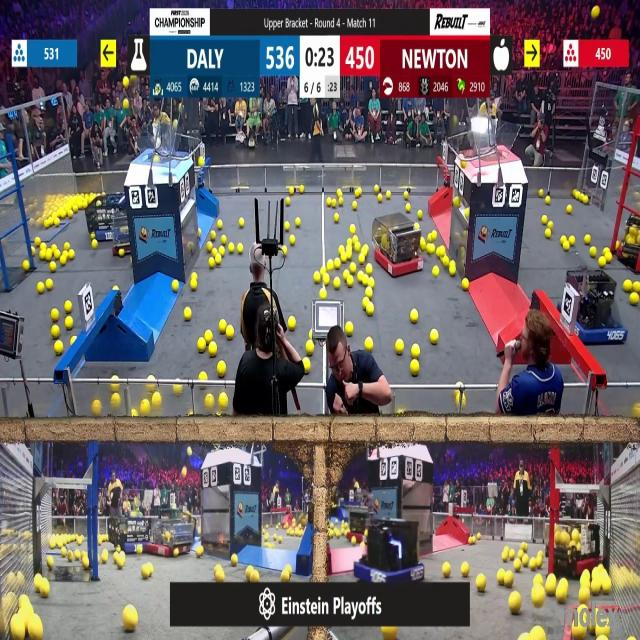ball_airborne: (592, 6, 600, 18), (122, 76, 128, 87), (482, 104, 488, 115), (122, 100, 128, 110), (184, 470, 190, 479), (173, 119, 178, 127)
ball_ground: (125, 608, 138, 633), (556, 583, 568, 604), (511, 594, 522, 614), (532, 589, 544, 606), (382, 626, 396, 640), (544, 579, 554, 596), (246, 568, 258, 582), (478, 576, 487, 594), (110, 393, 120, 409), (532, 627, 544, 640), (214, 566, 224, 581), (218, 393, 228, 408), (217, 360, 226, 376), (93, 402, 102, 418), (40, 583, 49, 599), (142, 564, 152, 578), (205, 394, 215, 408), (592, 582, 602, 596), (578, 589, 587, 604), (602, 580, 610, 596), (504, 570, 512, 586), (208, 343, 217, 357), (444, 562, 452, 577), (56, 341, 64, 356), (412, 359, 420, 374), (430, 331, 438, 345), (364, 338, 372, 352), (461, 562, 469, 576), (304, 358, 312, 372), (395, 341, 403, 355), (225, 325, 233, 339), (412, 345, 420, 359), (141, 402, 149, 416), (630, 292, 639, 304), (282, 568, 290, 581), (116, 556, 124, 569), (497, 570, 504, 584), (346, 322, 354, 334), (50, 310, 58, 322), (198, 340, 206, 352), (174, 384, 182, 396), (183, 308, 190, 321), (412, 310, 419, 323), (66, 317, 73, 330), (307, 342, 314, 355), (288, 317, 295, 330), (51, 325, 58, 338), (314, 273, 322, 284), (334, 278, 342, 289), (624, 281, 632, 292), (598, 255, 606, 266), (515, 560, 523, 571), (219, 320, 226, 332), (450, 265, 457, 277), (420, 239, 427, 251), (438, 246, 446, 256), (533, 574, 541, 584), (590, 247, 597, 258), (232, 555, 239, 566), (45, 280, 52, 291), (362, 296, 369, 307), (529, 558, 536, 569), (462, 279, 468, 291), (173, 280, 179, 292), (82, 558, 88, 570), (38, 282, 44, 294), (366, 305, 372, 317), (200, 370, 208, 379), (102, 552, 108, 564), (46, 557, 52, 569), (347, 248, 353, 260), (189, 280, 196, 290), (322, 275, 329, 285), (61, 256, 68, 266), (210, 232, 217, 242), (195, 548, 202, 558), (427, 244, 434, 254), (69, 250, 76, 260), (357, 272, 364, 282), (66, 303, 72, 314), (24, 262, 30, 273), (320, 288, 326, 299), (432, 267, 438, 278), (209, 257, 215, 268), (327, 261, 333, 272), (634, 281, 640, 292), (563, 243, 570, 252), (443, 256, 450, 265), (358, 254, 365, 263), (361, 245, 368, 254), (520, 633, 529, 640), (93, 240, 99, 250), (348, 277, 354, 287), (50, 263, 56, 273), (365, 266, 371, 276), (284, 220, 290, 230), (586, 236, 592, 246), (238, 244, 244, 254), (350, 264, 356, 274), (228, 242, 234, 252), (216, 254, 222, 264), (352, 202, 358, 212), (336, 260, 342, 270), (206, 330, 212, 340), (39, 250, 45, 260), (502, 552, 508, 562), (137, 544, 143, 554), (511, 550, 517, 560), (536, 558, 542, 568), (340, 246, 347, 254), (111, 376, 118, 384), (544, 231, 550, 240), (289, 237, 295, 246), (569, 237, 575, 246), (365, 288, 371, 297), (605, 253, 611, 262), (75, 551, 81, 560), (350, 224, 356, 233), (219, 246, 225, 255), (430, 233, 436, 242), (220, 236, 226, 245), (355, 188, 361, 197), (541, 215, 547, 224), (34, 238, 40, 247), (68, 209, 74, 218), (584, 197, 590, 206), (572, 189, 578, 198), (61, 549, 67, 558), (68, 552, 74, 561), (295, 217, 300, 227), (56, 250, 61, 260), (46, 251, 51, 261), (566, 206, 572, 214), (216, 220, 222, 228), (386, 190, 392, 198), (335, 214, 341, 222), (561, 236, 567, 244), (91, 233, 97, 241), (284, 198, 290, 206), (211, 248, 217, 256), (174, 550, 180, 558), (354, 244, 360, 252), (347, 238, 353, 246), (132, 411, 138, 419), (288, 187, 294, 195), (375, 185, 381, 193), (522, 542, 528, 550), (418, 210, 423, 219), (367, 278, 372, 287), (283, 247, 288, 256), (118, 249, 123, 258), (329, 199, 334, 208), (344, 271, 349, 280), (190, 273, 196, 280), (407, 205, 413, 212), (70, 338, 76, 345), (403, 190, 408, 198), (378, 193, 383, 201), (538, 188, 543, 196), (468, 536, 473, 544), (56, 218, 61, 226), (149, 374, 154, 382), (240, 218, 244, 227), (208, 242, 212, 251), (198, 228, 202, 237), (32, 247, 36, 256), (65, 243, 70, 250), (544, 198, 549, 205), (338, 190, 343, 197), (321, 267, 326, 274), (340, 199, 344, 207), (299, 185, 303, 193), (309, 330, 313, 338), (280, 538, 284, 546), (352, 536, 356, 544), (267, 541, 272, 547), (116, 544, 120, 551), (274, 534, 278, 540), (188, 412, 192, 418), (266, 534, 270, 540), (99, 537, 102, 544)
goal: (466, 120, 520, 159), (128, 128, 188, 160)
robot_blue: (353, 520, 423, 588), (575, 273, 625, 345), (86, 192, 128, 242), (112, 511, 153, 555)
robot_red: (372, 213, 424, 277), (550, 518, 600, 576), (149, 508, 196, 556), (613, 516, 640, 573), (615, 218, 640, 272), (347, 508, 369, 542)
